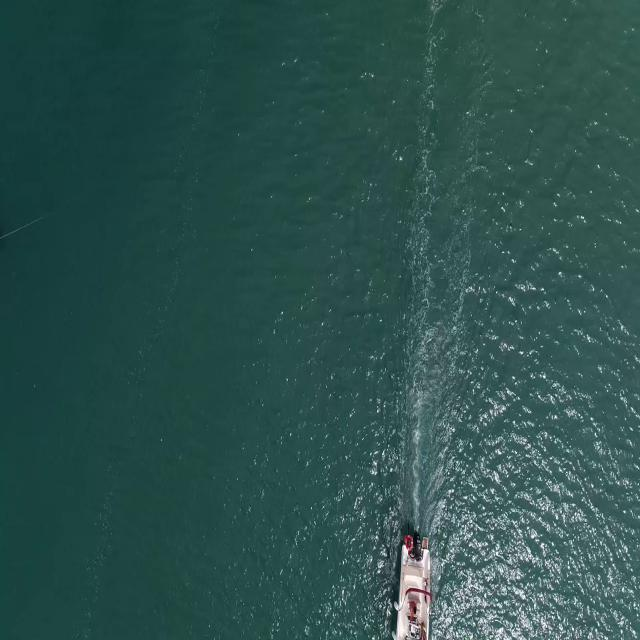boat: (391, 548, 432, 640)
life_buoy: (403, 531, 414, 550)
person: (409, 597, 419, 621), (418, 622, 429, 640)
